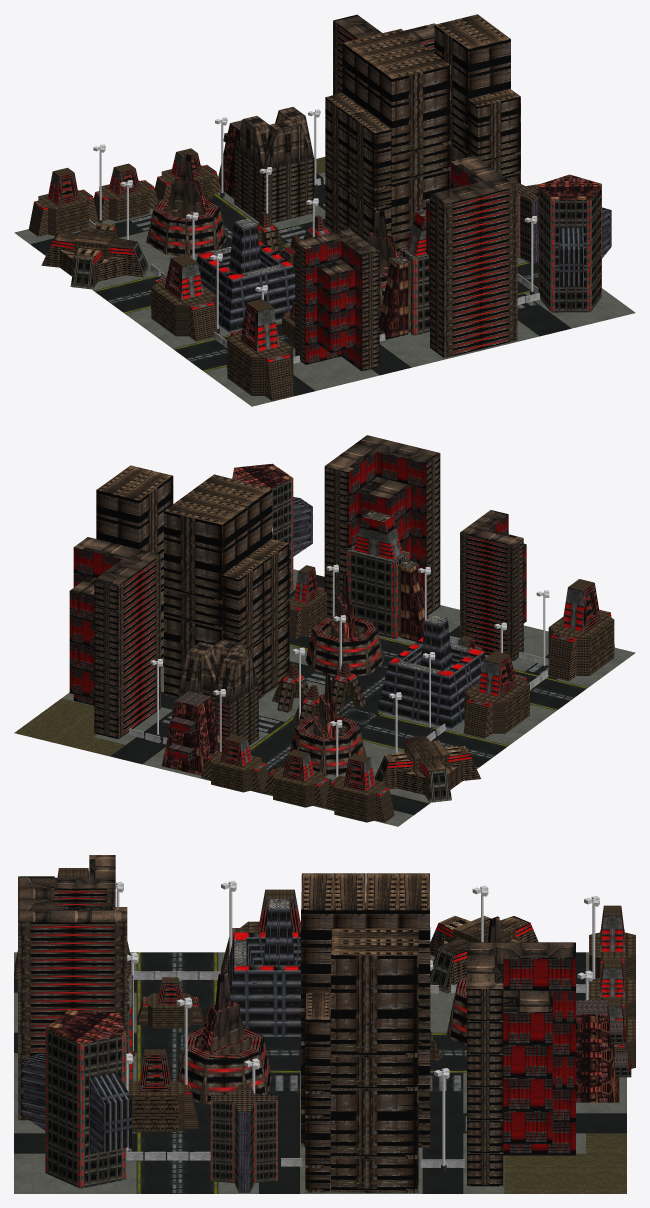
Rendered from CyberCity_v03.fbx.
3 renders of one model, top to bottom at view 1: azimuth 30°, elevation 25°; view 2: azimuth 150°, elevation 25°; view 3: azimuth 270°, elevation 25°, orthographic. The views are drawn at different scales.
Visible parts, largest first — view 1: Building_004:Building_004, Ground_Plane:Ground_Plane, Building_028, Building_006:Building_006, Building_024, Building_005:Building_005, Building_007:Building_007, Building_022, Building_010:Building_010, Building_008:Building_008, Building_021, Building_016:Building_016 (+8 smaller); view 2: Ground_Plane:Ground_Plane, Building_004:Building_004, Building_003:Building_003, Building_022, Building_006:Building_006, Building_010:Building_010, Building_028, Building_024, Building_007:Building_007, Building_008:Building_008, Building_016:Building_016, Building_013:Building_013 (+10 smaller); view 3: Ground_Plane:Ground_Plane, Building_024, Building_003:Building_003, Building_005:Building_005, Building_004:Building_004, Building_010:Building_010, Building_026, Building_022, Building_028, Building_012:Building_012, Building_011:Building_011, Building_017:Building_017 (+10 smaller).
Boxes of the visible parts, bbox=[...] form: Building_004:Building_004: bbox=[379, 156, 517, 357]; Ground_Plane:Ground_Plane: bbox=[14, 157, 635, 406]; Building_028: bbox=[350, 47, 450, 253]; Building_006:Building_006: bbox=[295, 228, 379, 371]; Building_024: bbox=[434, 14, 520, 183]; Building_005:Building_005: bbox=[538, 174, 611, 312]; Building_007:Building_007: bbox=[234, 107, 314, 223]; Building_022: bbox=[325, 29, 425, 232]; Building_010:Building_010: bbox=[196, 218, 295, 332]; Building_008:Building_008: bbox=[226, 299, 293, 401]; Building_021: bbox=[146, 154, 226, 256]; Building_016:Building_016: bbox=[41, 223, 149, 289]; Ground_Plane:Ground_Plane: bbox=[14, 569, 635, 826]; Building_004:Building_004: bbox=[324, 435, 440, 641]; Building_003:Building_003: bbox=[69, 537, 160, 739]; Building_022: bbox=[164, 492, 264, 699]; Building_006:Building_006: bbox=[460, 510, 526, 661]; Building_010:Building_010: bbox=[377, 615, 485, 729]; Building_028: bbox=[189, 474, 289, 694]; Building_024: bbox=[96, 465, 173, 668]; Building_007:Building_007: bbox=[178, 639, 258, 750]; Building_008:Building_008: bbox=[548, 579, 614, 681]; Building_016:Building_016: bbox=[374, 736, 480, 802]; Building_013:Building_013: bbox=[463, 651, 530, 738]; Ground_Plane:Ground_Plane: bbox=[14, 952, 626, 1193]; Building_024: bbox=[305, 928, 418, 1192]; Building_003:Building_003: bbox=[467, 942, 575, 1186]; Building_005:Building_005: bbox=[18, 1009, 132, 1188]; Building_004:Building_004: bbox=[18, 876, 133, 1120]; Building_010:Building_010: bbox=[226, 899, 300, 1036]; Building_026: bbox=[177, 972, 271, 1104]; Building_022: bbox=[365, 873, 430, 1147]; Building_028: bbox=[301, 873, 365, 1147]; Building_012:Building_012: bbox=[210, 1083, 277, 1192]; Building_011:Building_011: bbox=[576, 1000, 631, 1102]; Building_017:Building_017: bbox=[128, 1049, 198, 1132].
Size of the model in its own units: 8383 by 3620 by 8583.
Materials: 24 (24 with a texture image).
